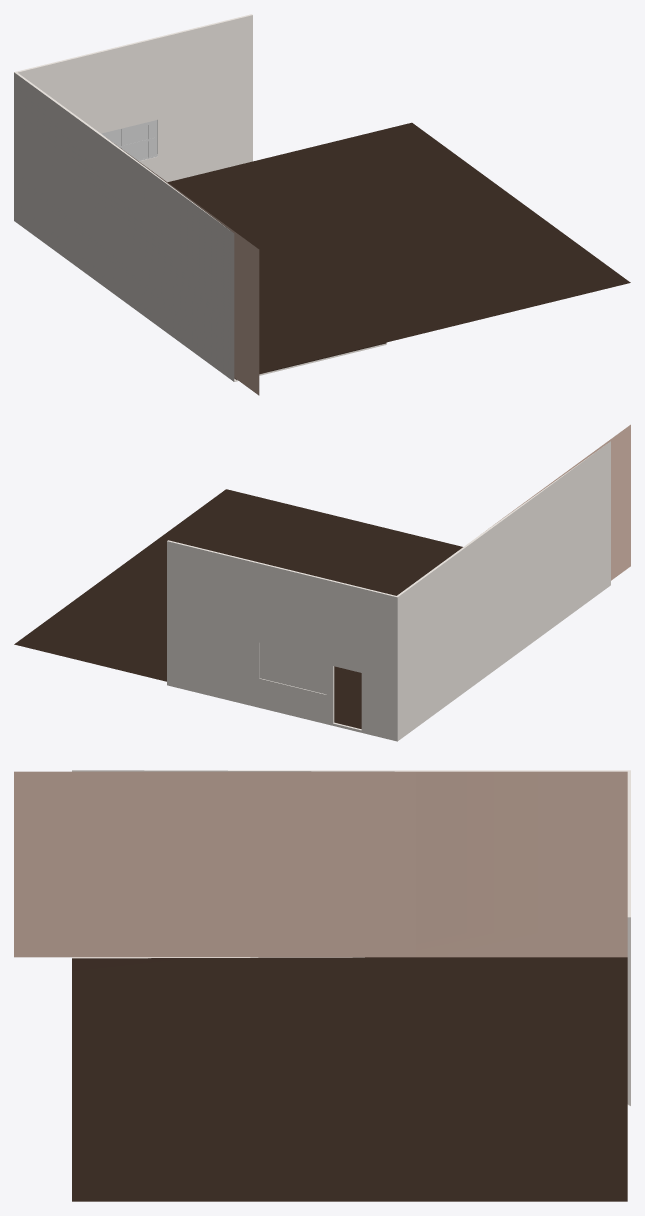
The model's file is 墙体结构.fbx.
3 renders of one model, top to bottom at view 1: azimuth 30°, elevation 25°; view 2: azimuth 150°, elevation 25°; view 3: azimuth 270°, elevation 25°, orthographic. The views are drawn at different scales.
Visible parts, largest first — view 1: Cube; view 2: Cube; view 3: Cube.
Boxes of the visible parts, left/top/right/bottom form: Cube: left=14, top=14, right=630, bottom=395; Cube: left=14, top=424, right=630, bottom=741; Cube: left=14, top=770, right=630, bottom=1201.
Bounding box in the file's own units: 1790 × 641 × 1899.
